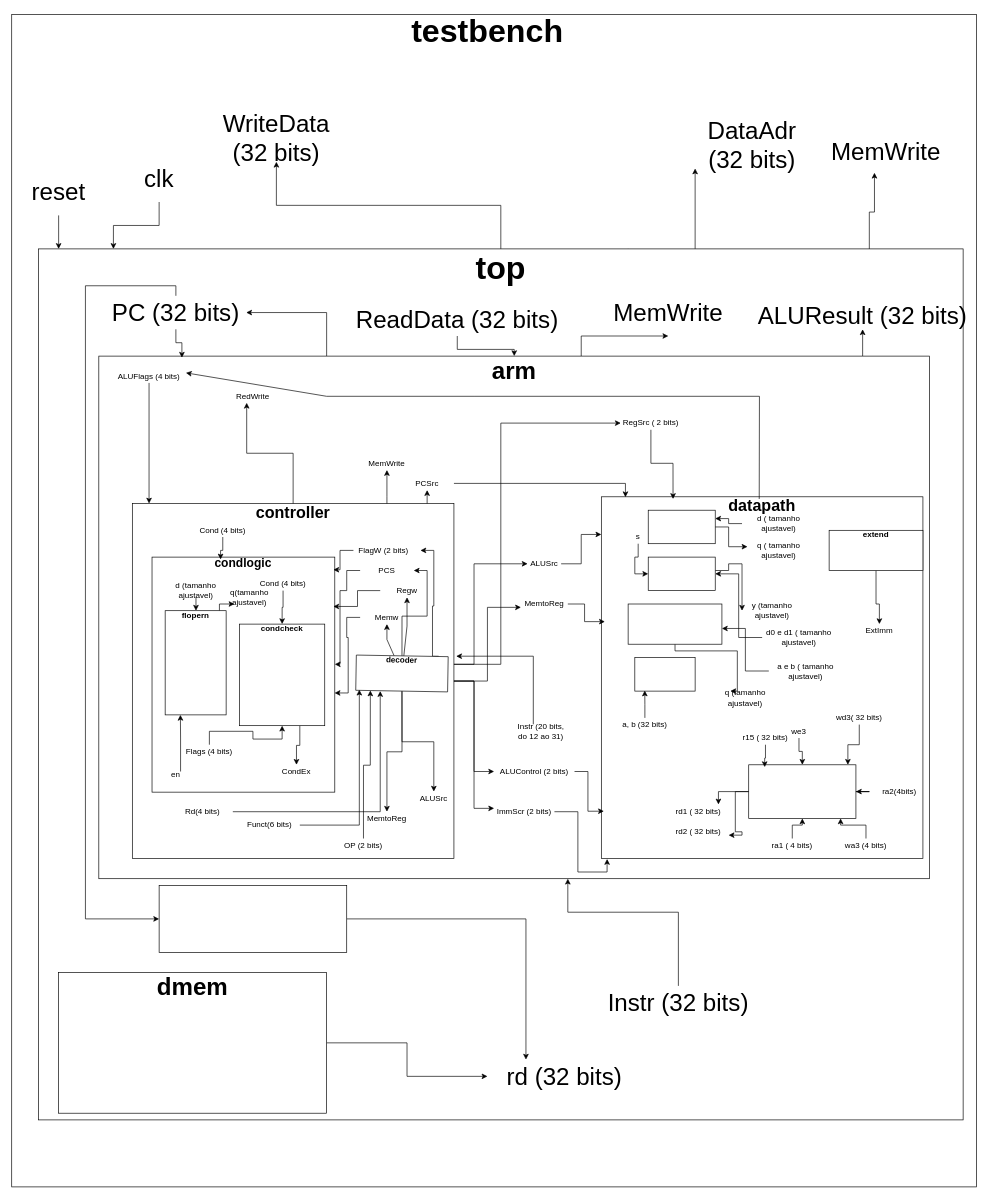
Image size: 988x1199. Some labels were removed from this diagram. Each missing label, with the centre of its shape:
"adder" goes at (x=674, y=623).
"alu" goes at (x=664, y=674).
"flopr" goes at (x=681, y=527).
"imem" goes at (x=252, y=918).
"mux2" goes at (x=681, y=573).
"regflie" goes at (x=802, y=791).
